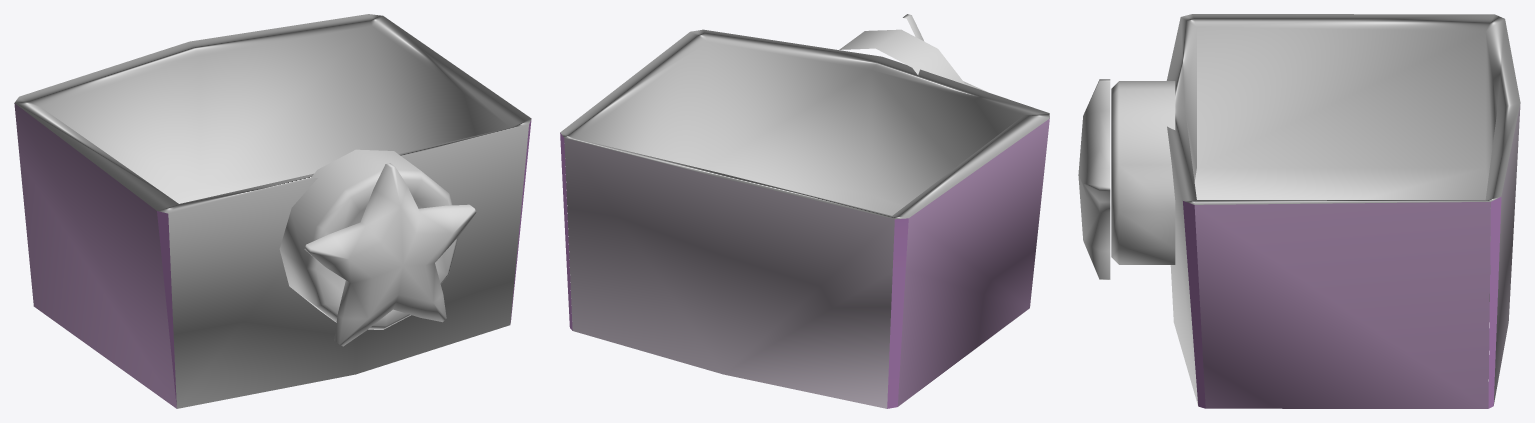
The model's file is QuestRewardBoxCadence.glb.
3 renders of one model, left to right at view 1: azimuth 30°, elevation 25°; view 2: azimuth 150°, elevation 25°; view 3: azimuth 270°, elevation 25°, orthographic. The views are drawn at different scales.
Visible parts, largest first — view 1: QuestRewardBoxCadence; view 2: QuestRewardBoxCadence; view 3: QuestRewardBoxCadence.
Boxes of the visible parts, x1,y1,x2,y2 form: QuestRewardBoxCadence: (14, 14, 531, 408); QuestRewardBoxCadence: (560, 14, 1049, 408); QuestRewardBoxCadence: (1078, 14, 1520, 408).
Size of the model in its own units: 0.5827 by 0.3451 by 0.5704.
